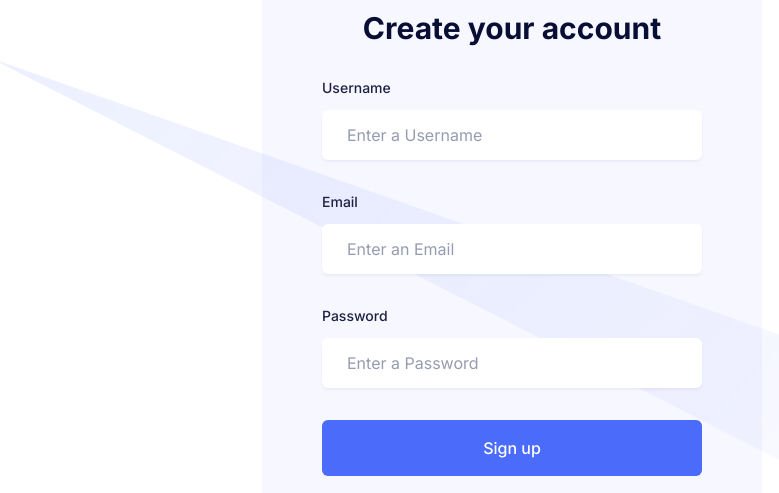
Test: Sign in functionality › Should show username, email & password required errors if no text is provided
Click the button: click(512, 448) 322,420 -> 702,476
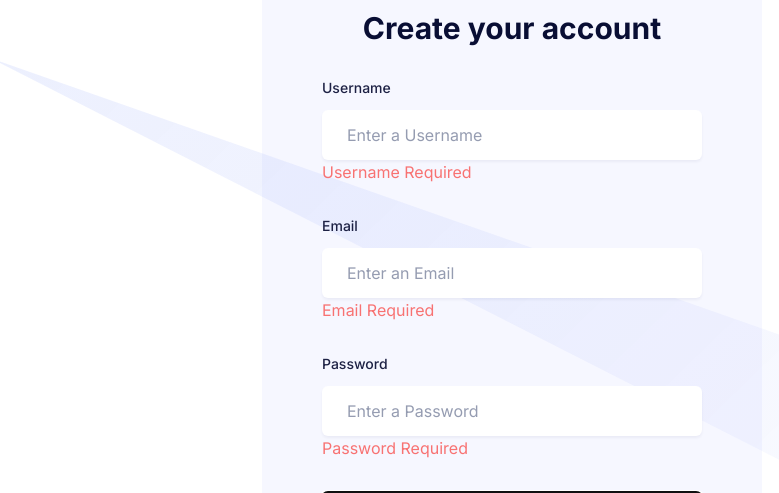
expect the text "Username Required" is shown: met, box 322,162 -> 472,182
expect the text "Email Required" is shown: met, box 322,300 -> 434,320
expect the text "Password Required" is shown: met, box 322,438 -> 468,458
